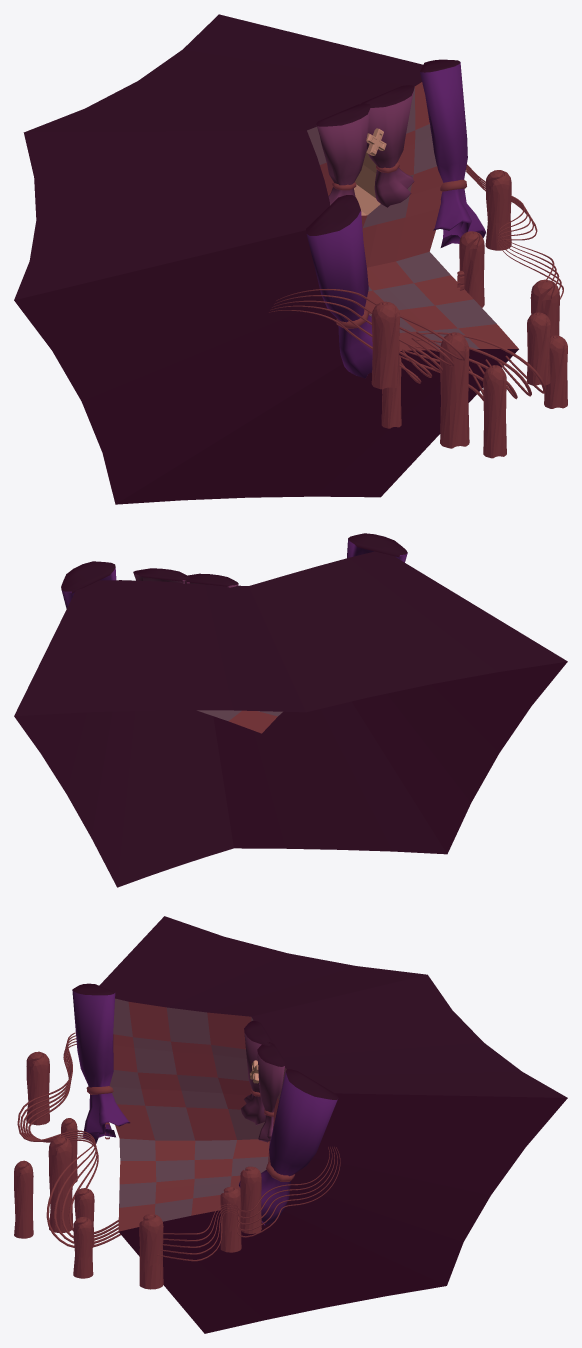
Rendered from MusicPuzzleBlockRedesignAmendment.fbx.
3 views of the same model, one above another, from view 1: azimuth 30°, elevation 25°; view 2: azimuth 150°, elevation 25°; view 3: azimuth 270°, elevation 25° (orthographic). The views are drawn at different scales.
Parts seen in each view (by area): view 1: PuzzleEnvironment; view 2: PuzzleEnvironment; view 3: PuzzleEnvironment.
Part boxes in pixels (x1,y1,x2,y2): PuzzleEnvironment: [14, 14, 567, 504]; PuzzleEnvironment: [14, 533, 567, 887]; PuzzleEnvironment: [14, 916, 567, 1333].
Bounding box in the file's own units: 6768 × 4112 × 6775.
